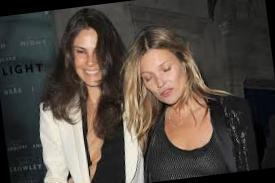Drunk: (141, 51, 184, 103), (72, 30, 108, 85)
